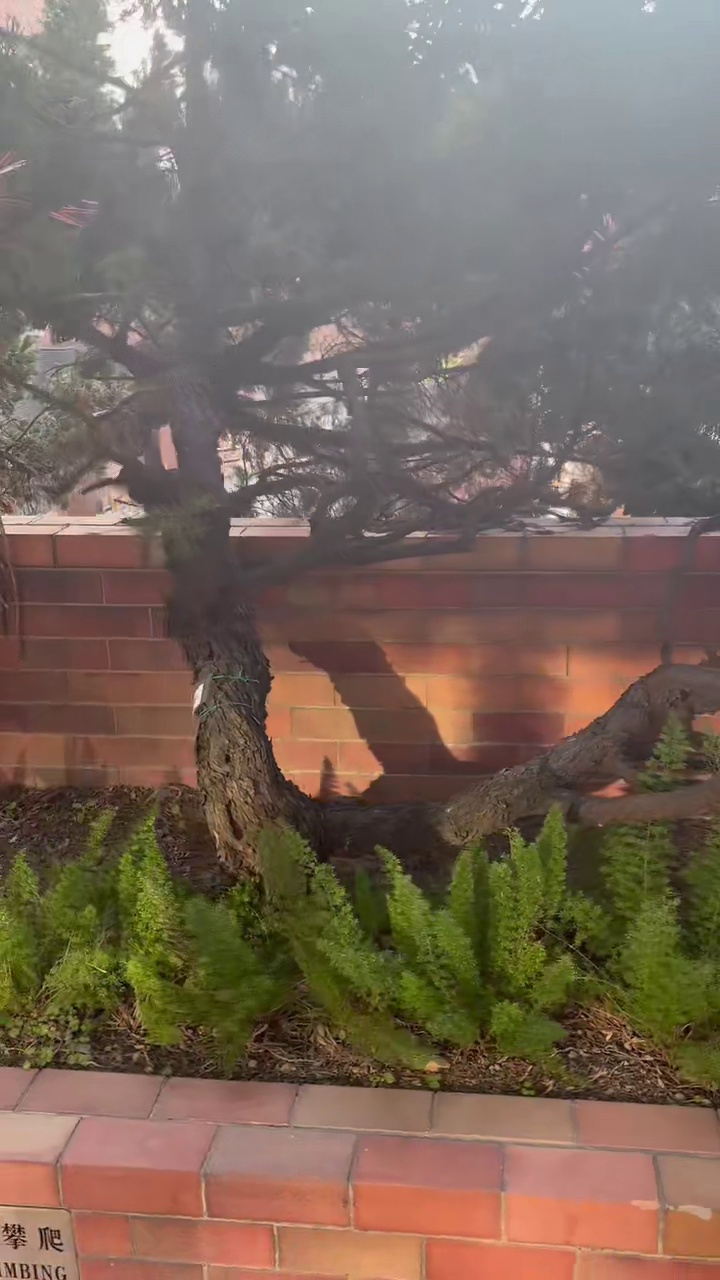Juniperus chinensis: (11, 0, 719, 869)
